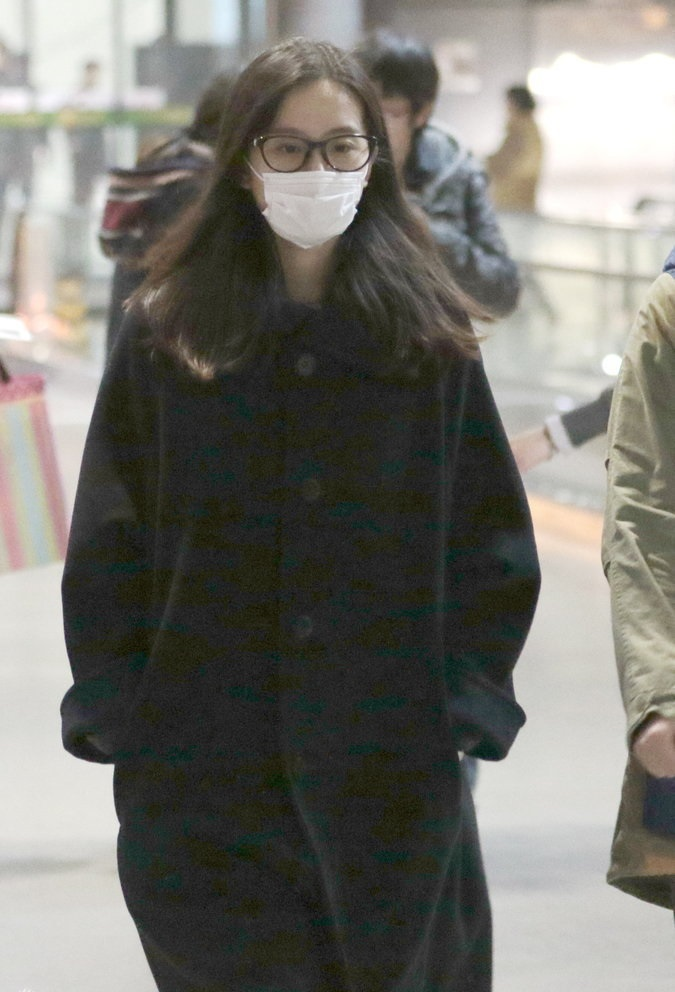face_mask: (260, 82, 368, 250)
